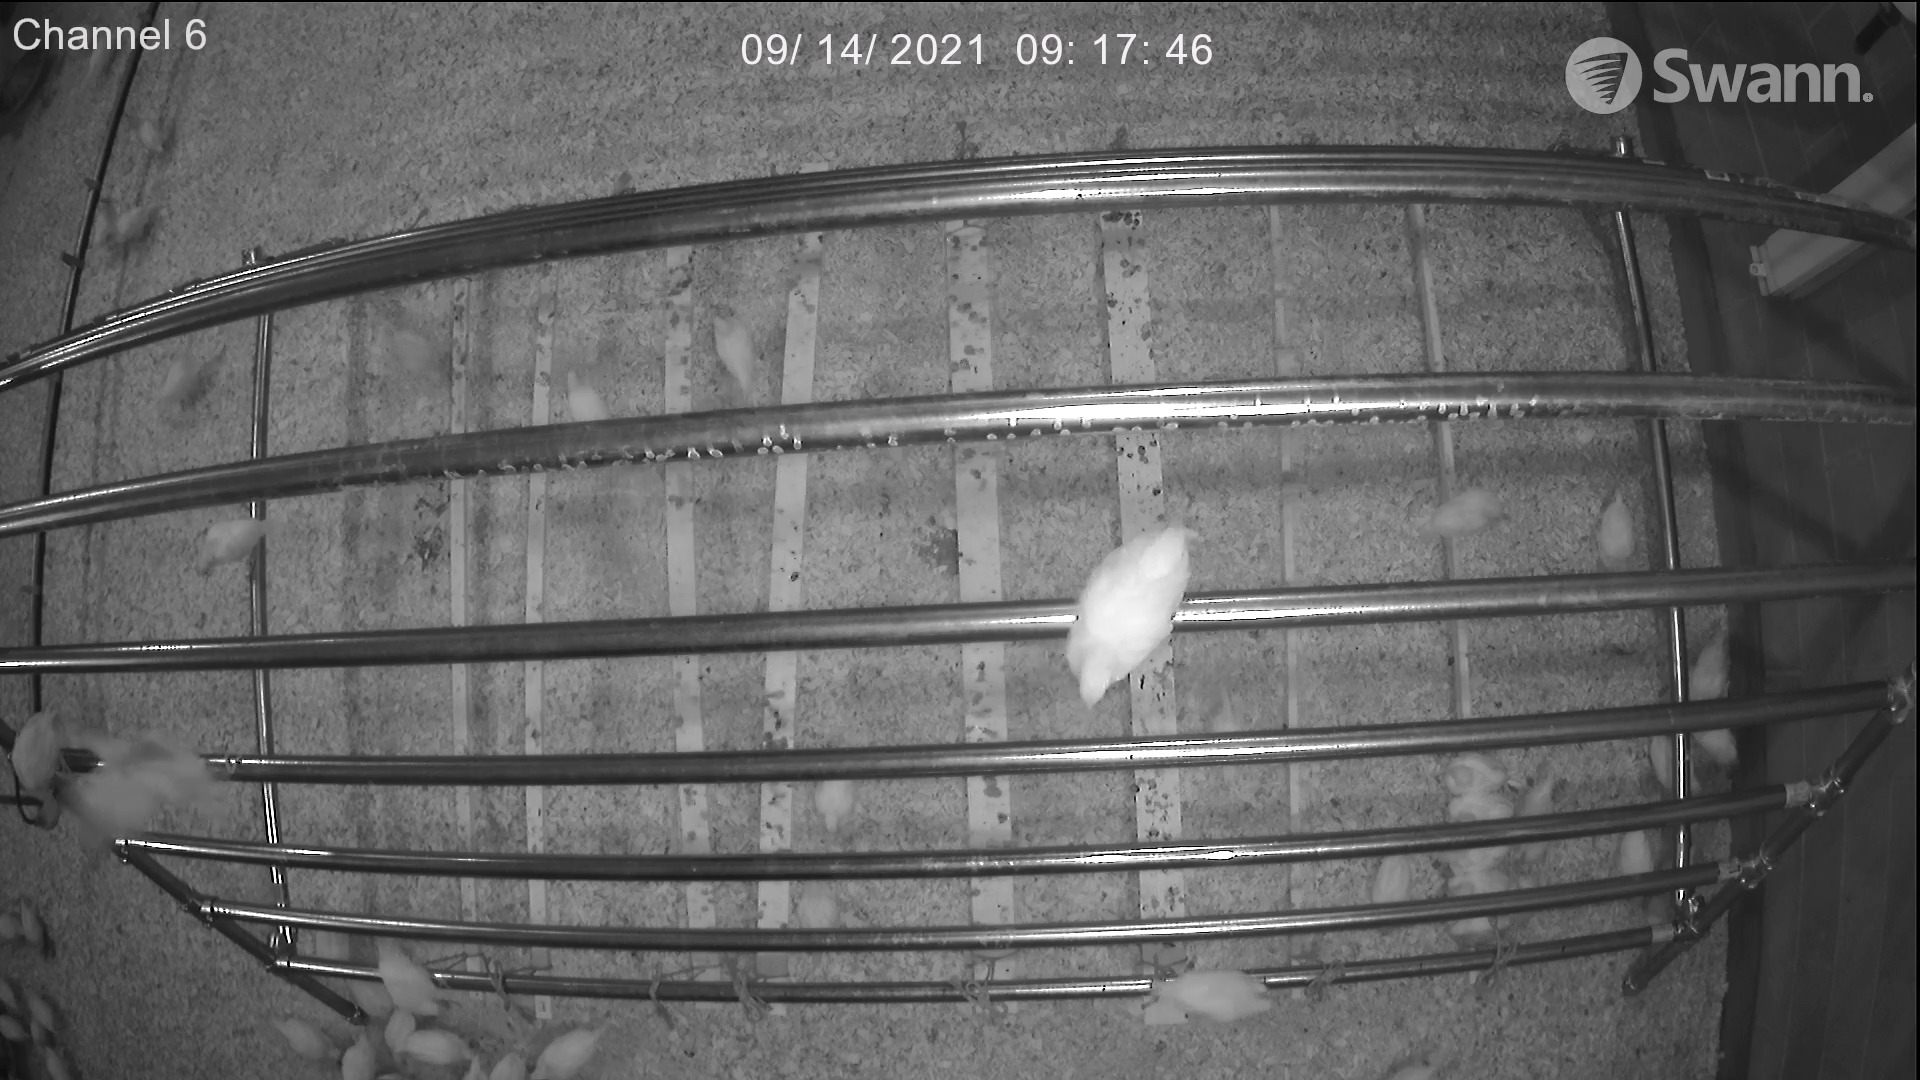Perching: (1036, 495, 1213, 717), (1129, 961, 1280, 1026), (353, 934, 456, 1017), (1404, 480, 1518, 553), (1439, 750, 1528, 822), (178, 520, 284, 578), (1447, 847, 1518, 894)
